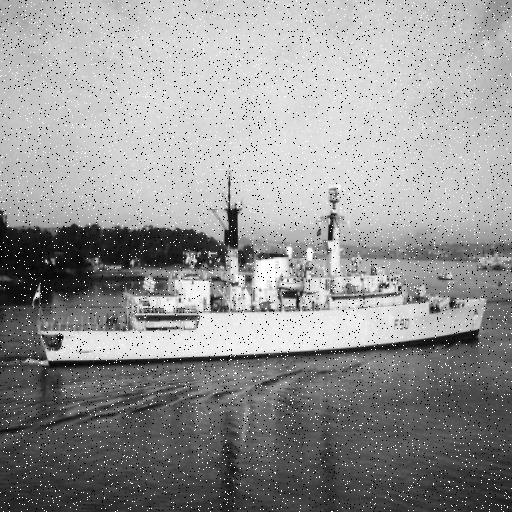Fragata: (32, 170, 489, 370)
